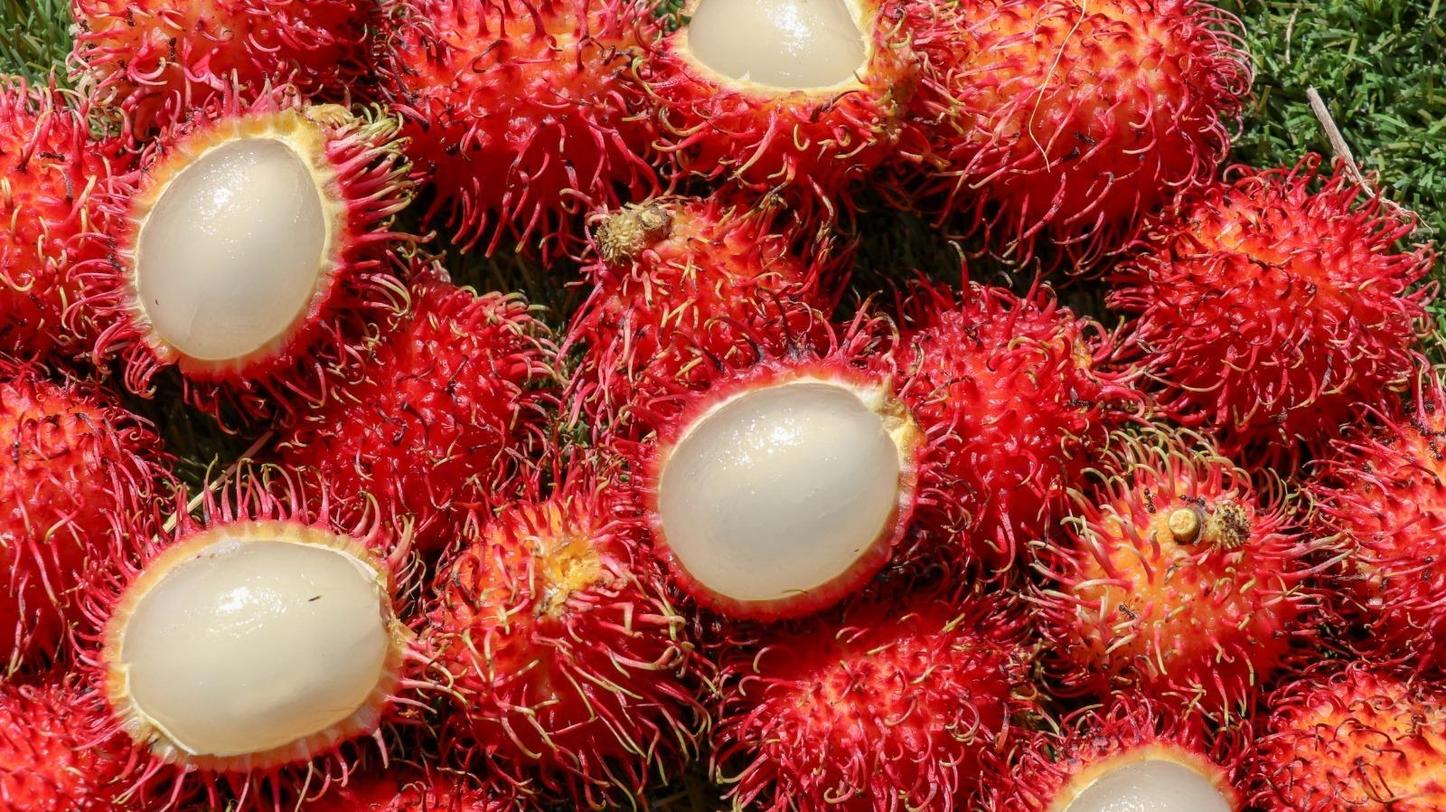chom_chom: (1117, 154, 1427, 472)
